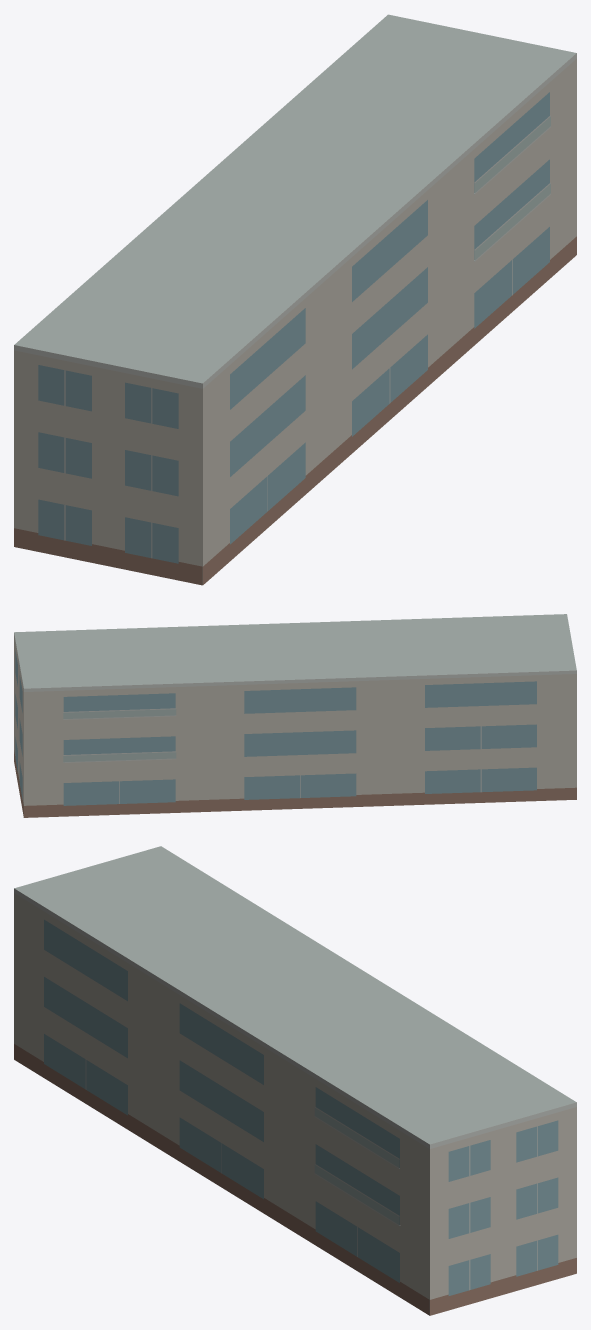
The model's file is survey-upis-32686443.glb.
3 views of the same model, one above another, from view 1: azimuth 30°, elevation 25°; view 2: azimuth 150°, elevation 25°; view 3: azimuth 270°, elevation 25° (orthographic). The views are drawn at different scales.
Parts seen in each view (by area): view 1: survey-upis-32686443.tmp; view 2: survey-upis-32686443.tmp; view 3: survey-upis-32686443.tmp.
Part boxes in pixels (bbox=[...]): survey-upis-32686443.tmp: bbox=[14, 14, 576, 585]; survey-upis-32686443.tmp: bbox=[14, 614, 576, 817]; survey-upis-32686443.tmp: bbox=[14, 846, 576, 1315].
Bounding box in the file's own units: 34.21 × 9.15 × 27.26.
